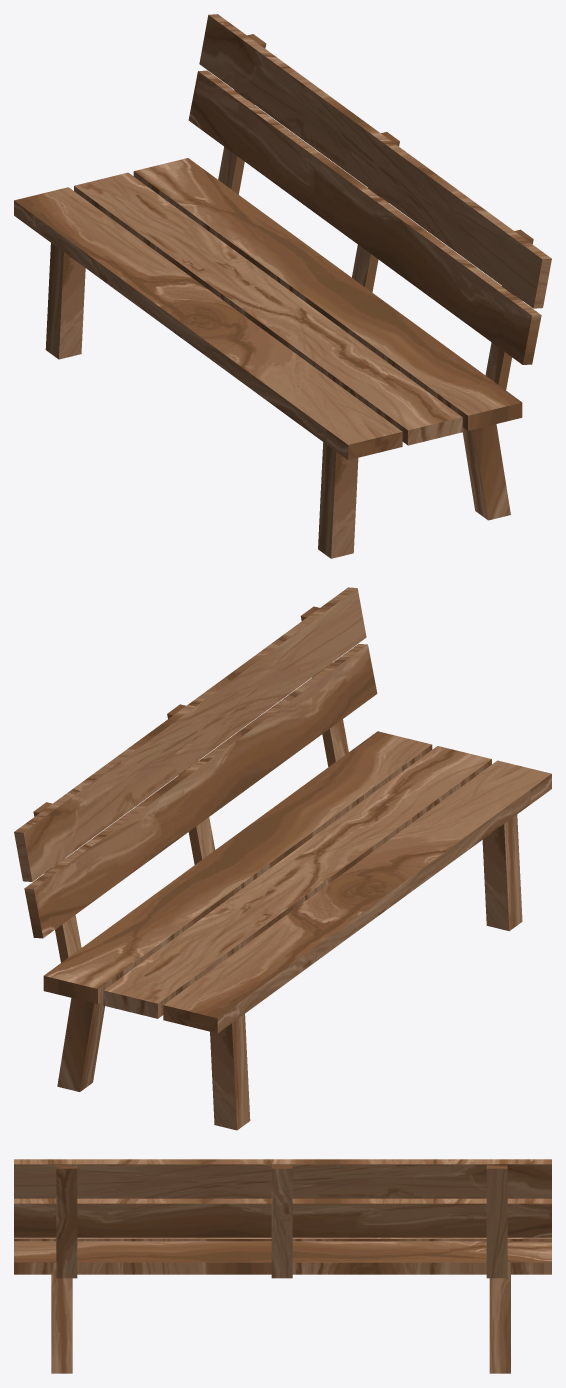
File: BancoWood.fbx
The picture shows the model from 3 angles, top to bottom: view 1: azimuth 30°, elevation 25°; view 2: azimuth 150°, elevation 25°; view 3: azimuth 270°, elevation 25°; orthographic projection. The views are drawn at different scales.
Parts seen in each view (by area): view 1: Cube.018; view 2: Cube.018; view 3: Cube.018.
Boxes of the visible parts, left/top/right/bottom form: Cube.018: left=14, top=14, right=551, bottom=558; Cube.018: left=14, top=587, right=551, bottom=1130; Cube.018: left=14, top=1159, right=551, bottom=1373.
Size of the model in its own units: 146 by 179 by 400.
